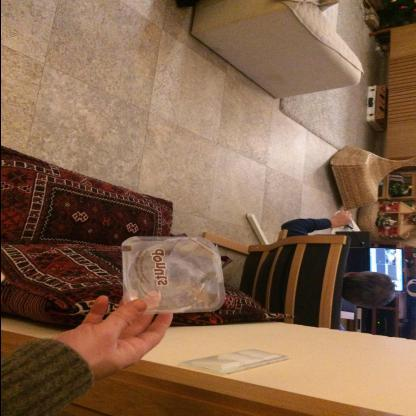plastik: (120, 237, 226, 316)
